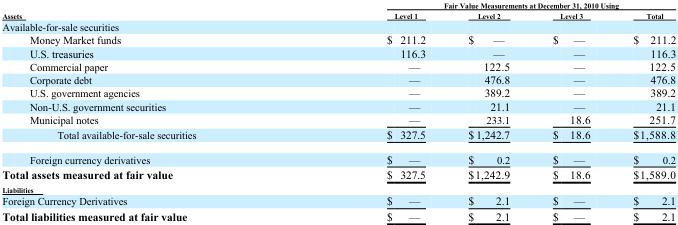table: (1, 0, 675, 222)
table column: (1, 0, 290, 222), (290, 0, 446, 222), (446, 0, 530, 222), (530, 0, 611, 222), (611, 0, 675, 222)
table column header: (1, 0, 675, 20)
table projected row header: (1, 20, 675, 32), (1, 182, 675, 193)
table row: (1, 126, 675, 146), (1, 146, 675, 166), (1, 166, 675, 182), (1, 193, 675, 208), (1, 32, 675, 46), (1, 85, 675, 99), (1, 112, 675, 126), (1, 208, 675, 222), (1, 46, 675, 59), (1, 59, 675, 72), (1, 72, 675, 85), (1, 99, 675, 112), (1, 20, 675, 32), (1, 9, 675, 20), (1, 182, 675, 193), (1, 0, 675, 9)
table spanning cell: (1, 0, 290, 20), (290, 0, 675, 9)
